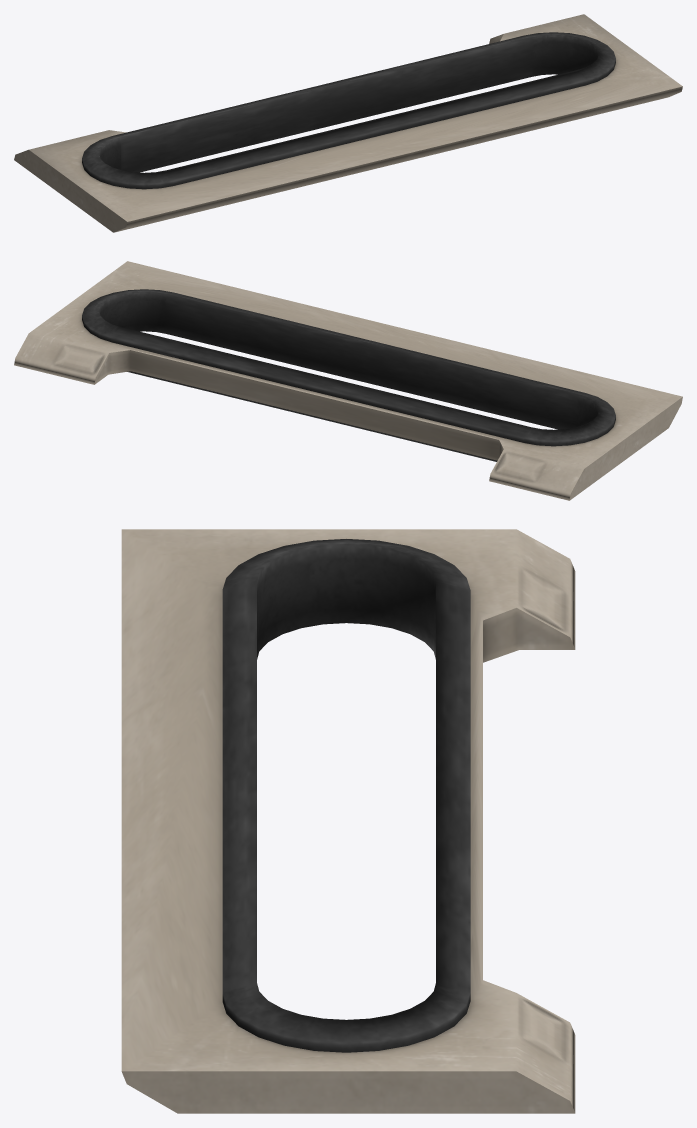
File: DebrisShutter.fbx
3 views of the same model, one above another, from view 1: azimuth 30°, elevation 25°; view 2: azimuth 150°, elevation 25°; view 3: azimuth 270°, elevation 25° (orthographic). The views are drawn at different scales.
Visible parts, largest first — view 1: DebrisShutter; view 2: DebrisShutter; view 3: DebrisShutter.
Boxes of the visible parts, x1,y1,x2,y2 form: DebrisShutter: (14,14,682,232); DebrisShutter: (14,261,682,500); DebrisShutter: (121,529,575,1113).
Size of the model in its own units: 228 by 15.52 by 80.68.
